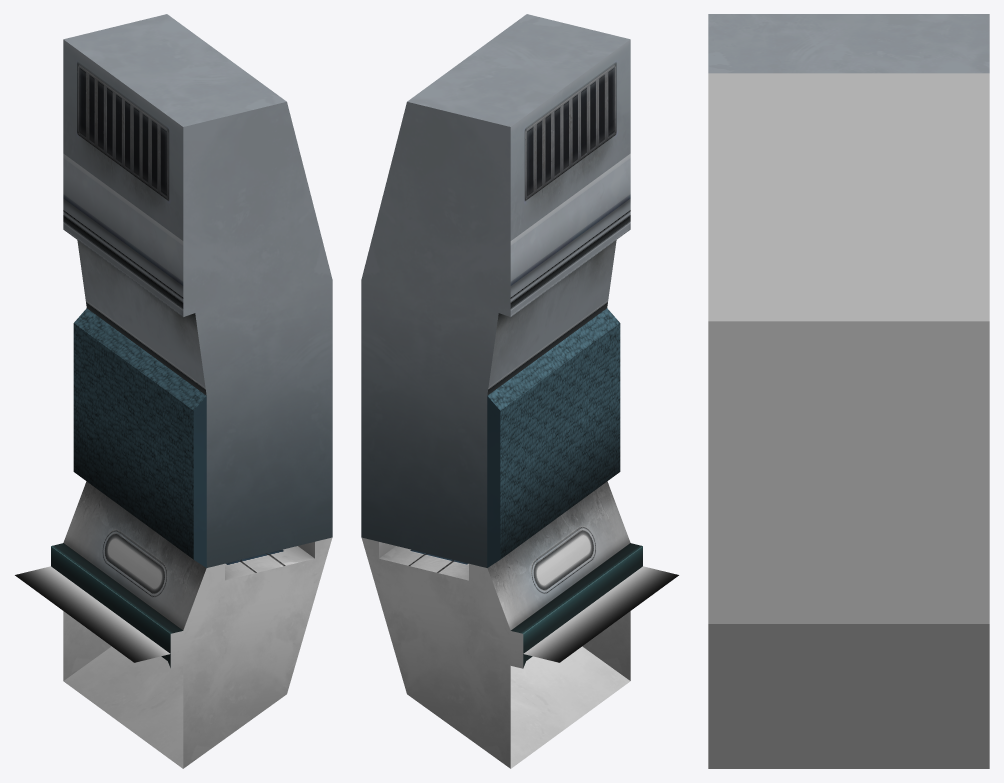
The model's file is Bar_Wall.fbx.
3 renders of one model, left to right at view 1: azimuth 30°, elevation 25°; view 2: azimuth 150°, elevation 25°; view 3: azimuth 270°, elevation 25°, orthographic. The views are drawn at different scales.
Visible parts, largest first — view 1: Wall_UP, Wall_DOWN; view 2: Wall_UP, Wall_DOWN; view 3: Wall_UP, Wall_DOWN.
Part boxes in pixels (x1=…): Wall_UP: x1=63, y1=14, x2=332, y2=567; Wall_DOWN: x1=15, y1=481, x2=332, y2=768; Wall_UP: x1=361, y1=14, x2=630, y2=567; Wall_DOWN: x1=361, y1=481, x2=678, y2=768; Wall_UP: x1=708, y1=14, x2=989, y2=623; Wall_DOWN: x1=708, y1=624, x2=989, y2=768.
Bounding box in the file's own units: 0.9544 × 2.95 × 1.
